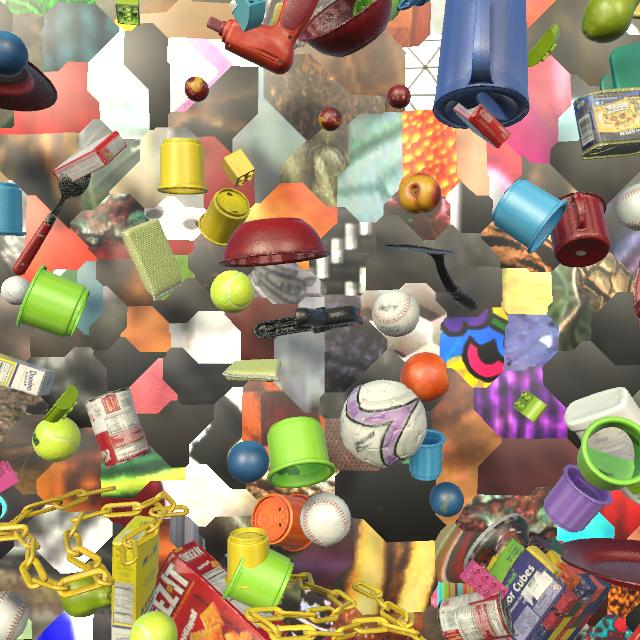ycb_003_cracker_box: (153, 540, 288, 640)
ycb_004_sugar_box: (111, 515, 159, 640), (0, 353, 55, 397)
ycb_005_tomato_soup_can: (85, 387, 152, 469), (437, 590, 519, 640)
ycb_009_gelatin_box: (52, 130, 127, 182), (453, 103, 511, 148), (627, 624, 640, 640)
ycb_010_potted_meat_can: (573, 87, 640, 160)
ycb_013_apple: (322, 632, 357, 640)
ycb_015_peach: (398, 173, 442, 215)
ycb_016_pear: (581, 0, 640, 43), (59, 571, 112, 618)
ycb_017_orange: (400, 352, 450, 403)
ycb_018_plum: (639, 260, 640, 269)
